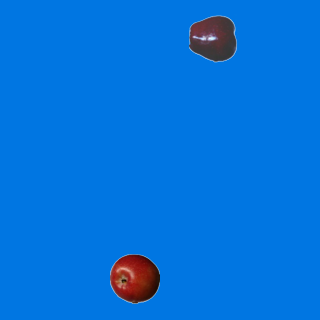Apple Braeburn: (109, 253, 159, 303)
Apple Red Delicious: (188, 13, 238, 63)
